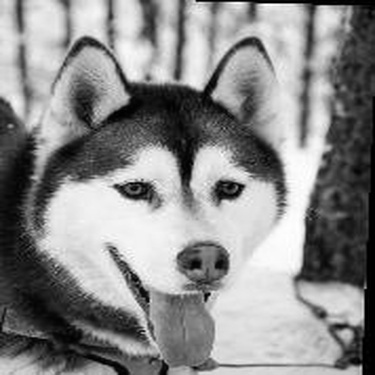dog: (1, 32, 360, 371)
